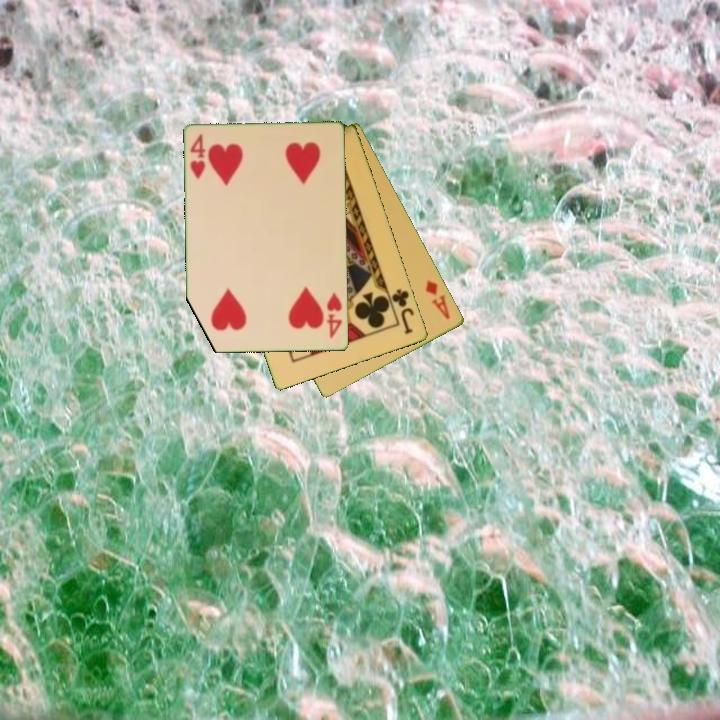4h: (323, 289, 345, 341), (187, 131, 209, 182)
Ad: (422, 277, 453, 322)
Jc: (389, 285, 417, 337)
